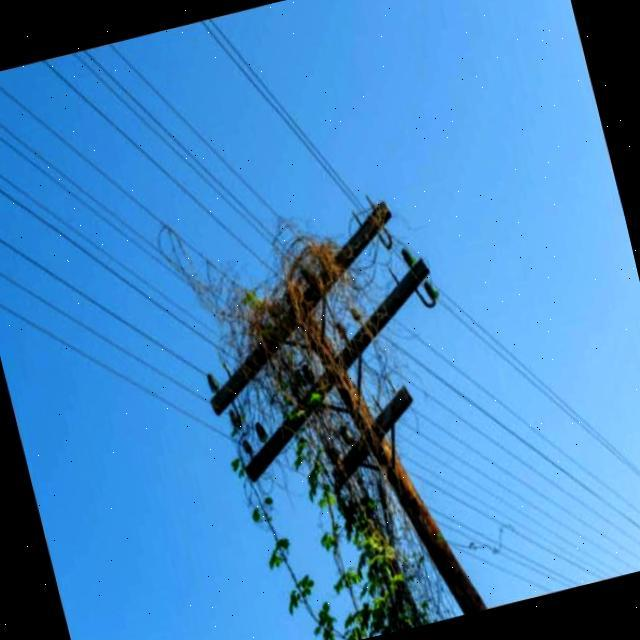critical vegetation: (174, 223, 433, 640)
